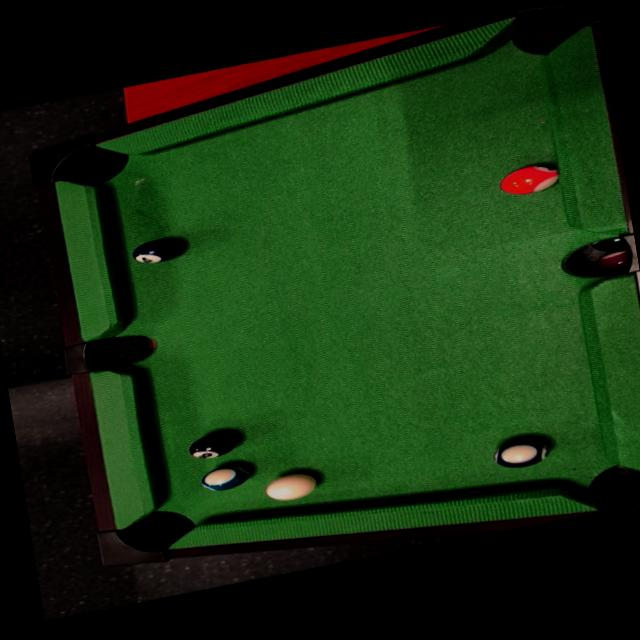cue ball: (263, 467, 321, 507)
other: (486, 432, 556, 476), (496, 157, 564, 202), (126, 232, 184, 272), (182, 428, 242, 465), (196, 461, 254, 497)
